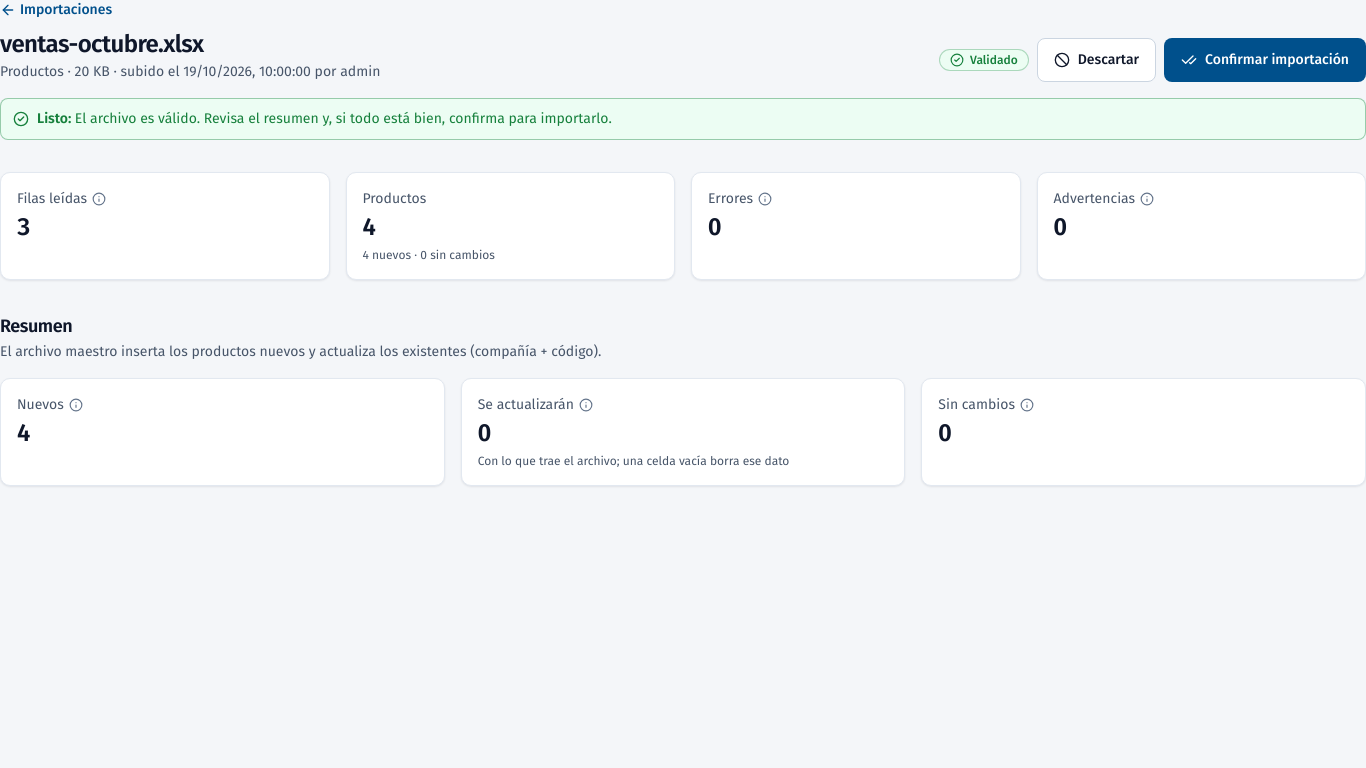
Test: importaciones › un lote de productos usa el mismo resumen de archivo maestro
This screenshot has width=1366, height=768.
expect the text "inserta los productos nuevos" is shown: met, box [0,343,601,360]
Click the button "Confirmar importación". click: coordinates (1265, 60)
box: [1164,38,1365,82]
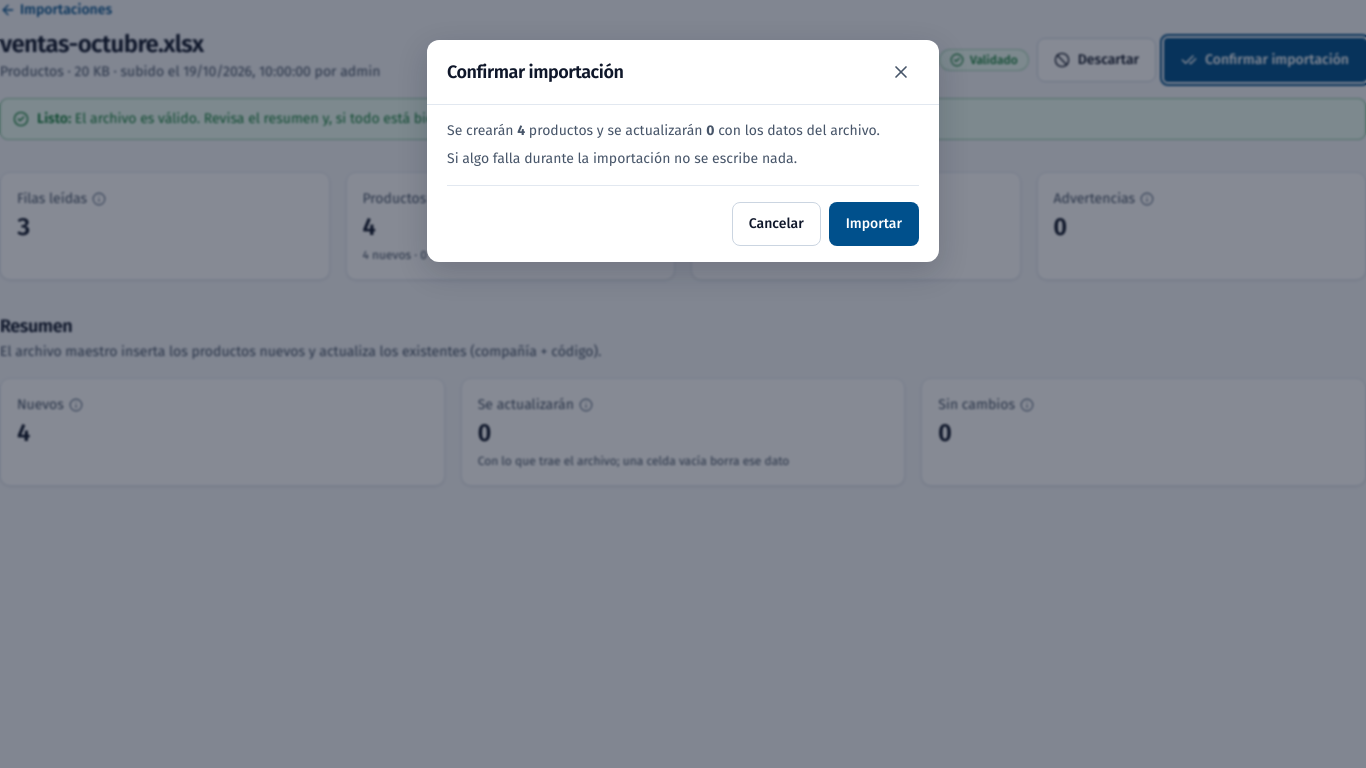
expect the dialog "Confirmar importación" shows "Se crearán 4 productos": met, box [427,40,939,262]
